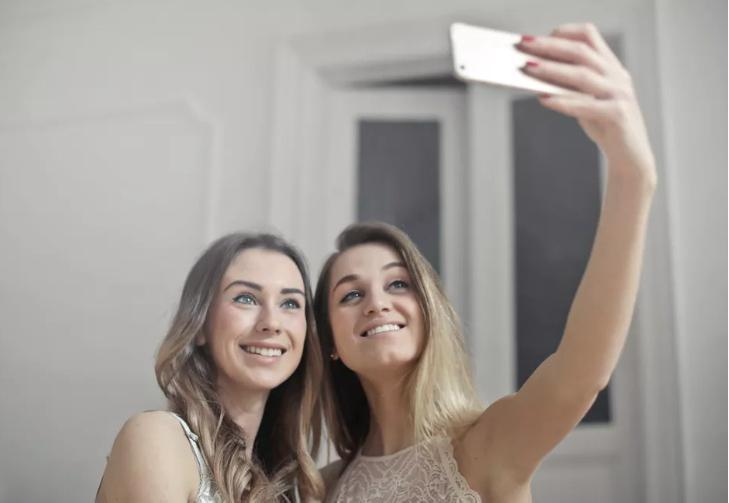face: (209, 247, 305, 389), (329, 242, 430, 369)
